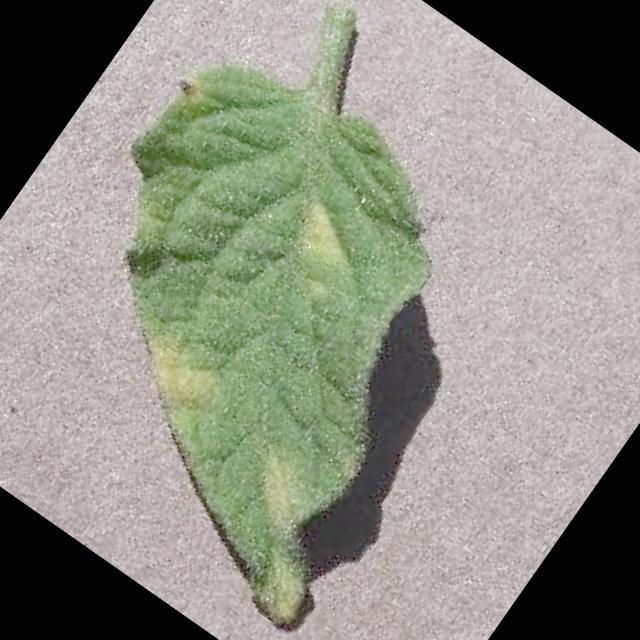Tomato mold leaf: (0, 12, 559, 633)
